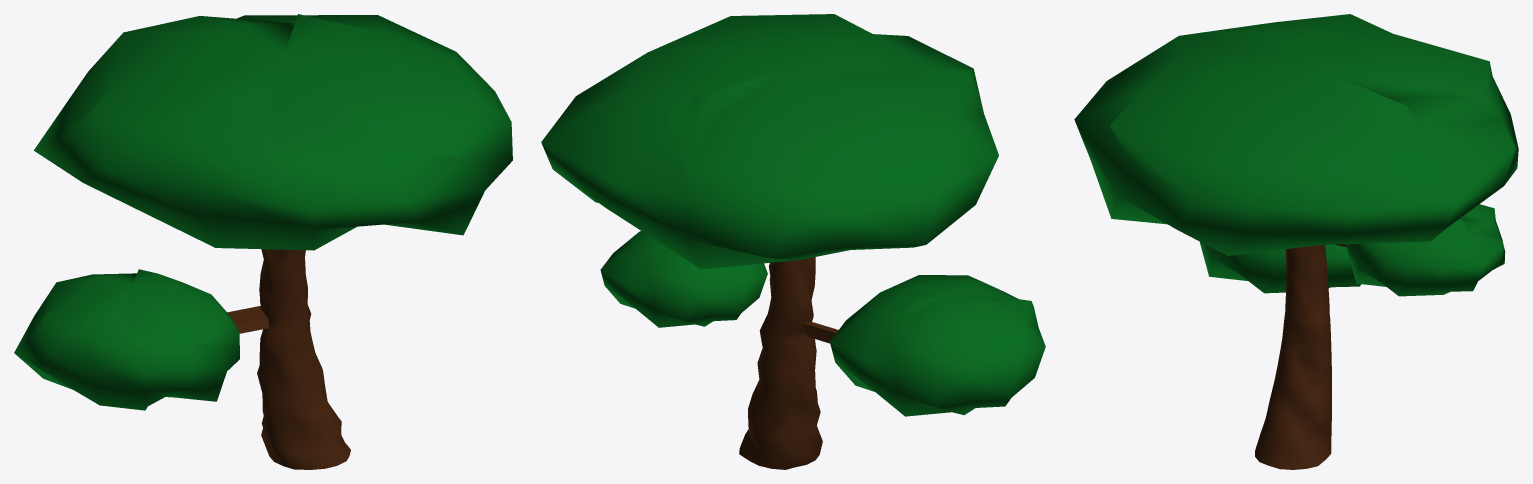
The model's file is tree_03.fbx.
The picture shows the model from 3 angles, left to right: view 1: azimuth 30°, elevation 25°; view 2: azimuth 150°, elevation 25°; view 3: azimuth 270°, elevation 25°; orthographic projection. The views are drawn at different scales.
Parts seen in each view (by area): view 1: Object033; view 2: Object033; view 3: Object033.
Boxes of the visible parts, box(x1,y1,x2,y2) form: Object033: box(14, 14, 512, 469); Object033: box(541, 14, 1045, 469); Object033: box(1074, 14, 1518, 469).
Bounding box in the file's own units: 1664 × 1423 × 1511.
